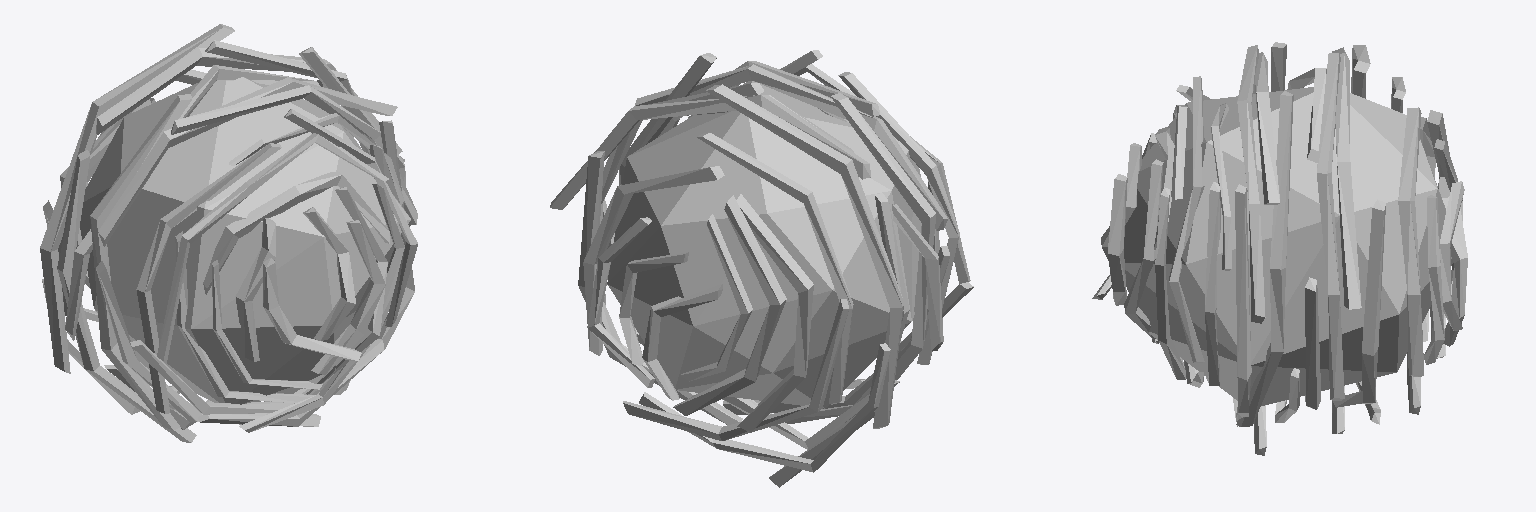
File: paille.obj
3 renders of one model, left to right at view 1: azimuth 30°, elevation 25°; view 2: azimuth 150°, elevation 25°; view 3: azimuth 270°, elevation 25°, orthographic.
Visible parts, largest first — view 1: Tumbleweed; view 2: Tumbleweed; view 3: Tumbleweed.
Part boxes in pixels (x1,y1,x2,y2): Tumbleweed: (40, 24, 417, 442); Tumbleweed: (550, 50, 973, 487); Tumbleweed: (1092, 42, 1467, 455).
Bounding box in the file's own units: 1.84 × 1.92 × 1.65.